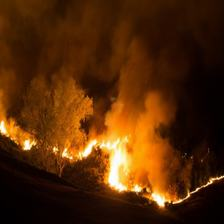fire: (4, 72, 181, 210)
